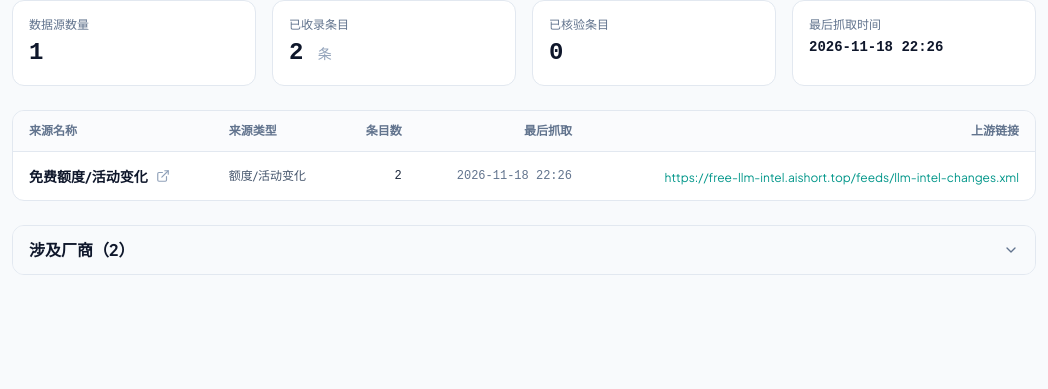
Test: 涉及厂商折叠区可用按钮展开，且仅对官方链接显示厂商链接
This screenshot has width=1048, height=389.
Step 1. Click the button "涉及厂商（2）" → [69, 250], box [13,226,1035,274]
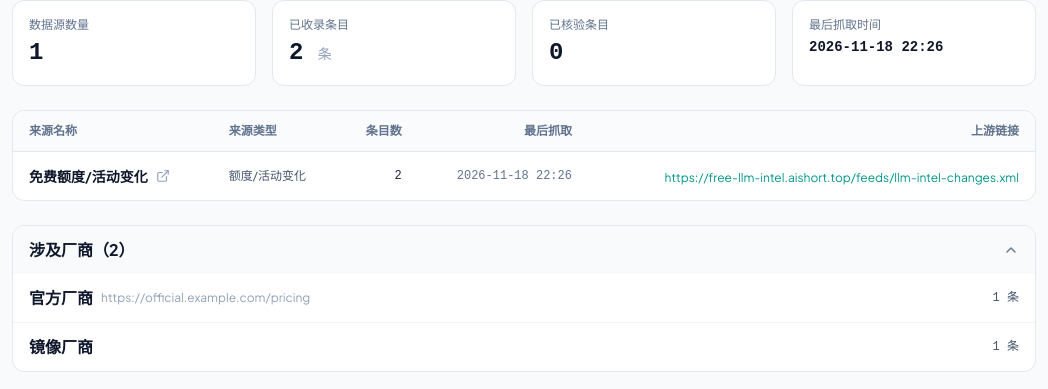
Expected: the link "https://official.example.com/pricing" is shown, [101,290,310,306]
